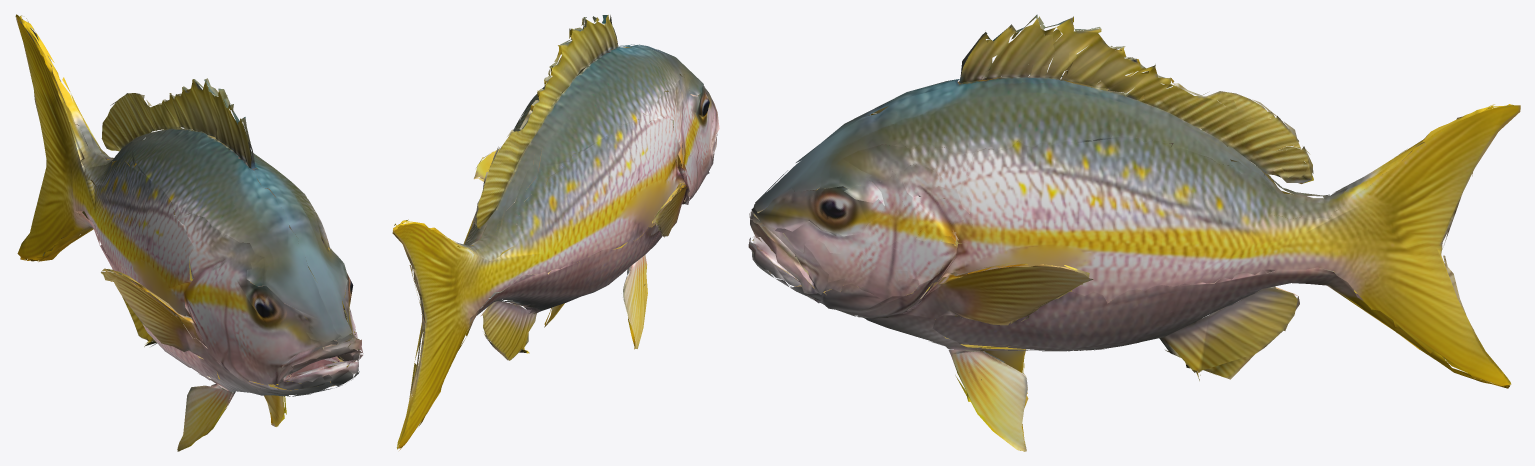
File: yellowtail.glb
3 renders of one model, left to right at view 1: azimuth 30°, elevation 25°; view 2: azimuth 150°, elevation 25°; view 3: azimuth 270°, elevation 25°, orthographic. The views are drawn at different scales.
Visible parts, largest first — view 1: yellowtail.001; view 2: yellowtail.001; view 3: yellowtail.001.
Part boxes in pixels (x1,y1,x2,y2): yellowtail.001: [15, 14, 363, 451]; yellowtail.001: [392, 15, 719, 450]; yellowtail.001: [748, 14, 1520, 451].
Bounding box in the file's own units: 0.3463 × 0.583 × 0.999.
Materials: 1 (1 with a texture image).
